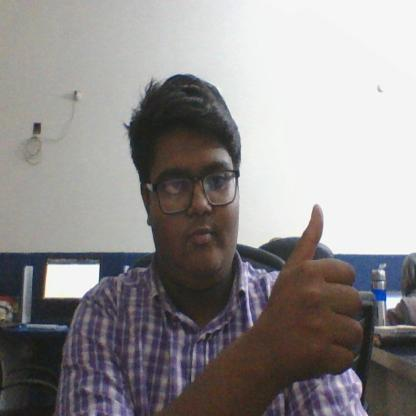thumbs-up: (273, 199, 375, 376)
